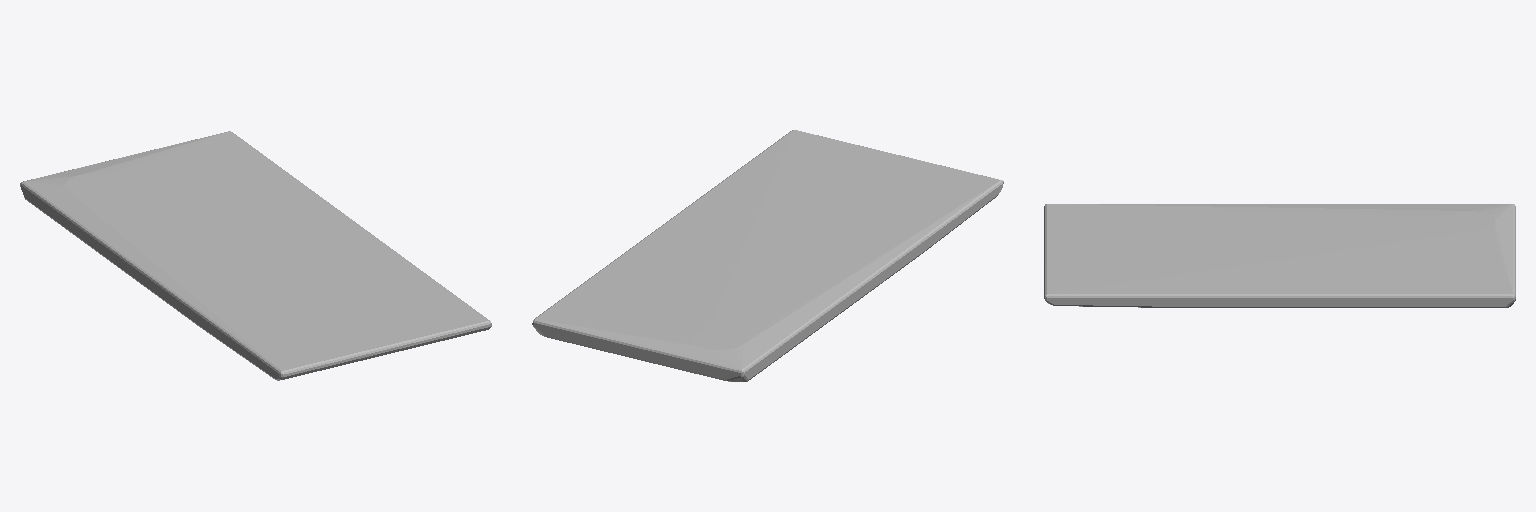
robot.urdf — root:
<robot name="root">
  <link name="link_coacd_convex_piece_0">
    <inertial>
      <origin xyz="0 0 0" rpy="0 0 0"/>
      <inertia ixx="1.75E-02" ixy="9.06E-05" ixz="8.75E-06" iyy="3.98E-03" iyz="-2.21E-05" izz="2.14E-02"/>
    </inertial>
    <visual>
      <origin xyz="0 0 0" rpy="0 0 0"/>
      <geometry>
        <mesh filename="coacd_convex_piece_0.obj" scale="1.0000E+00 1.0000E+00 1.0000E+00"/>
      </geometry>
      <material name="">
        <color rgba="7.50E-01 7.50E-01 7.50E-01 1"/>
      </material>
    </visual>
    <collision>
      <origin xyz="0 0 0" rpy="0 0 0"/>
      <geometry>
        <mesh filename="coacd_convex_piece_0.obj" scale="1.0000E+00 1.0000E+00 1.0000E+00"/>
      </geometry>
    </collision>
  </link>
</robot>

--- Render facts (derived) ---
Views: 3 orthographic renders of the robot side by side, from view 1: azimuth 30°, elevation 25°; view 2: azimuth 150°, elevation 25°; view 3: azimuth 270°, elevation 25°.
Model root with 1 links and 0 joints (none), rooted at link_coacd_convex_piece_0, posed every joint at zero.
Links seen in each view (by area): view 1: link_coacd_convex_piece_0; view 2: link_coacd_convex_piece_0; view 3: link_coacd_convex_piece_0.
Boxes of the visible links, x1,y1,x2,y2 form: link_coacd_convex_piece_0: (20,131,491,380); link_coacd_convex_piece_0: (532,130,1003,381); link_coacd_convex_piece_0: (1044,204,1515,307).
Size in the robot's own frame: 0.8307 by 1.78 by 0.0773 metres.
Meshes: 1 distinct files referenced, 1 mesh visuals loaded (1 OBJ).
